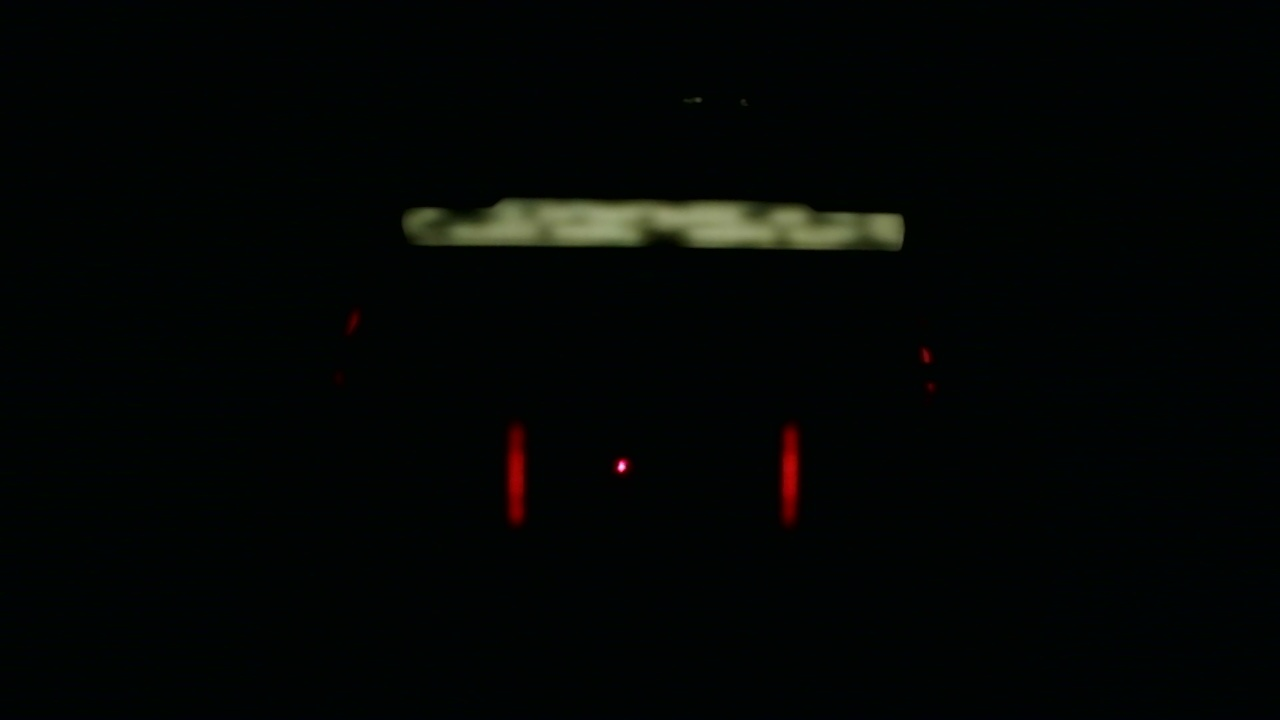lamp: (775, 426, 799, 522), (508, 421, 526, 523)
pair1: (508, 423, 800, 526)
